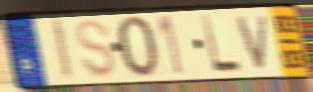1: (155, 13, 185, 79)
I: (49, 17, 75, 83)
L: (200, 13, 244, 75)
O: (115, 14, 161, 80)
S: (75, 17, 117, 81)
V: (234, 13, 271, 72)
